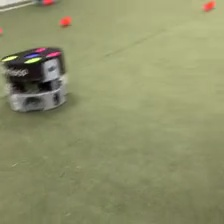ball: (60, 15, 71, 27), (203, 1, 215, 10), (42, 1, 52, 5)
robot: (1, 45, 69, 114)
